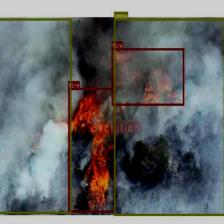fire: (68, 88, 115, 212), (111, 48, 184, 105)
smoke: (114, 18, 224, 215), (0, 18, 71, 213)
